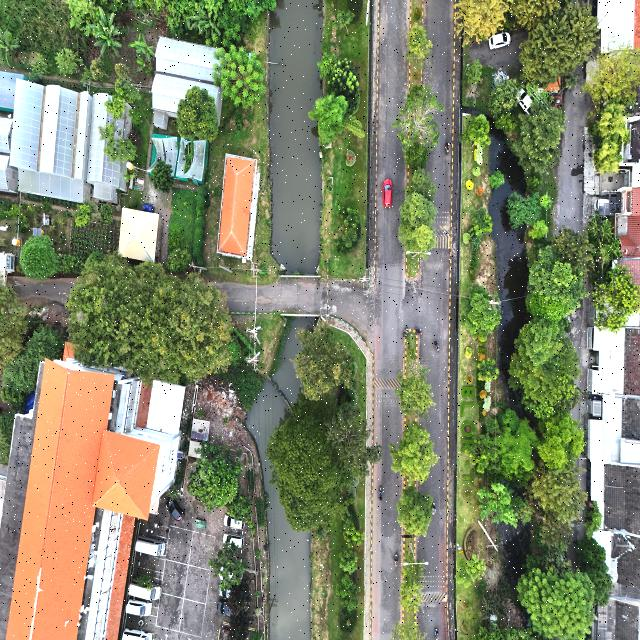Tree: (391, 420, 439, 484), (19, 233, 59, 280), (397, 488, 432, 538), (398, 372, 436, 414), (98, 124, 136, 163), (406, 23, 433, 61), (334, 576, 362, 610), (150, 160, 176, 194), (54, 49, 82, 75), (342, 518, 364, 549), (339, 548, 359, 576), (106, 92, 126, 119), (112, 59, 134, 83), (334, 10, 354, 36), (466, 554, 486, 576), (90, 58, 108, 82), (74, 200, 90, 227), (98, 200, 114, 224)
